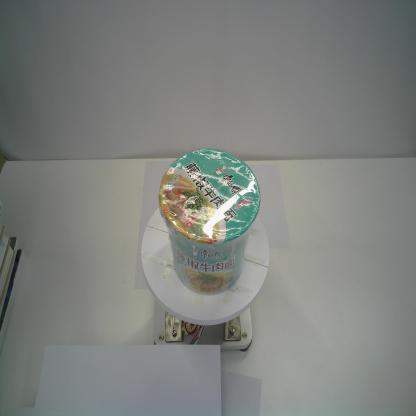Instant Noodles: (157, 146, 262, 296)
